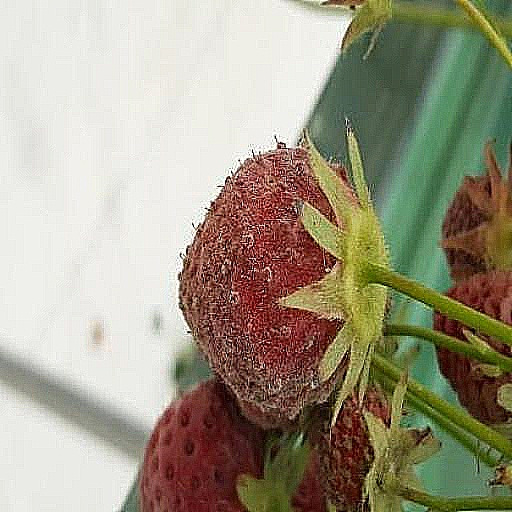Powdery Mildew Fruit: (121, 114, 335, 430), (103, 388, 208, 511)
